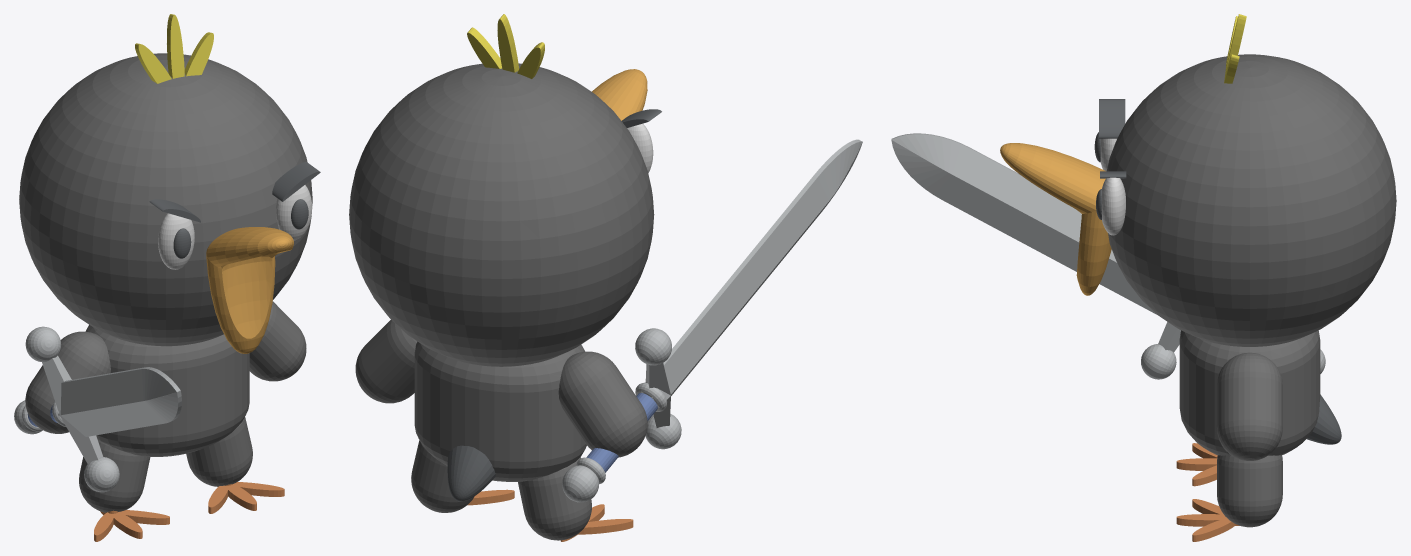
The model's file is Frantic Robo-Gogo.glb.
3 views of the same model, side by side, from view 1: azimuth 30°, elevation 25°; view 2: azimuth 150°, elevation 25°; view 3: azimuth 270°, elevation 25° (orthographic). The views are drawn at different scales.
Parts seen in each view (by area): view 1: Mesh_Mesh_head_geo.001_lambert2SG.001; view 2: Mesh_Mesh_head_geo.001_lambert2SG.001; view 3: Mesh_Mesh_head_geo.001_lambert2SG.001.
Boxes of the visible parts, x1,y1,x2,y2 form: Mesh_Mesh_head_geo.001_lambert2SG.001: [14, 14, 320, 541]; Mesh_Mesh_head_geo.001_lambert2SG.001: [349, 14, 862, 541]; Mesh_Mesh_head_geo.001_lambert2SG.001: [891, 14, 1396, 541].
Bounding box in the file's own units: 48.2 × 73 × 68.88.
